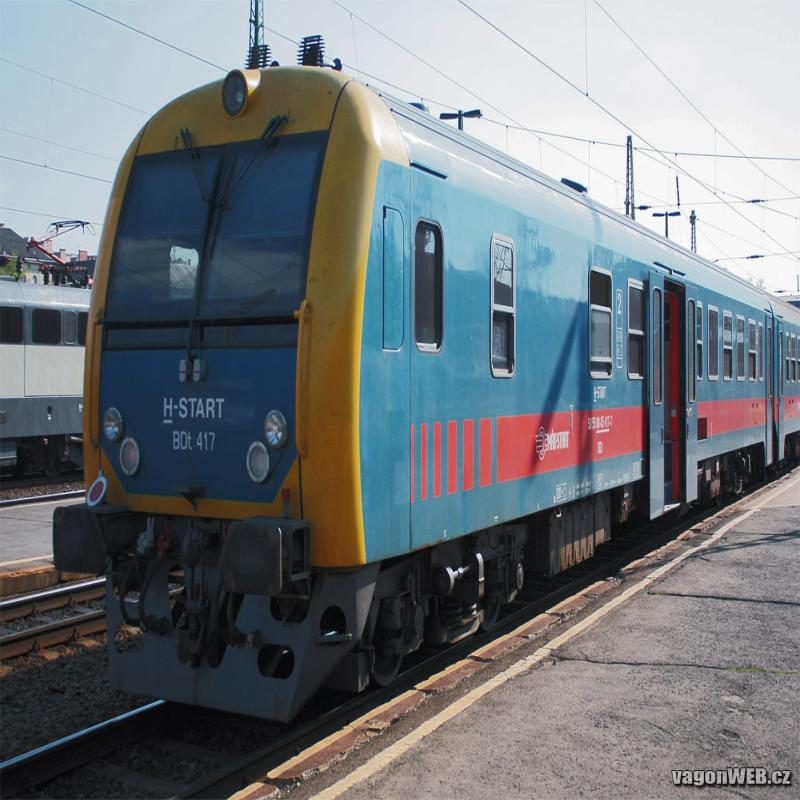train: (56, 35, 775, 729)
